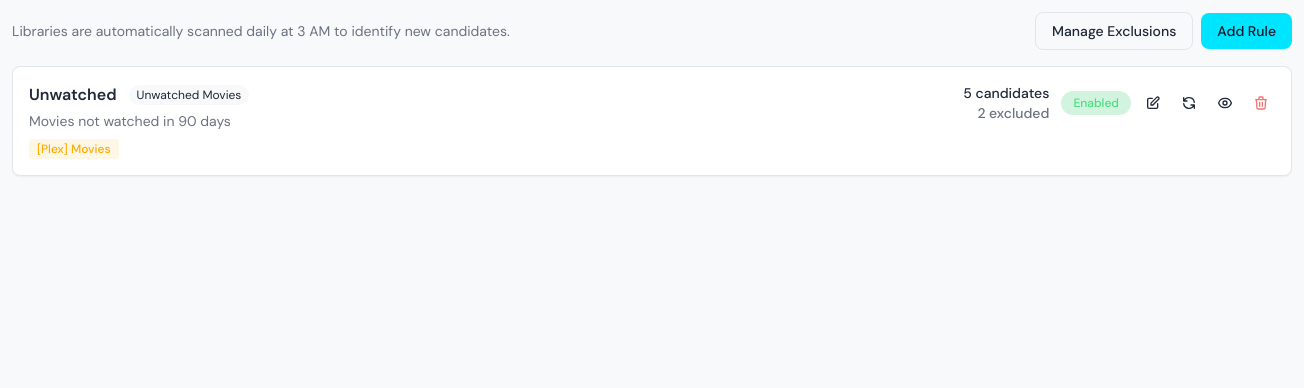
Test: MaintenanceRulesTab clickable titles › GlobalExclusionsView › renders exclusion title as a clickable button
This screenshot has width=1304, height=388.
Click the button "5 candidates".
click(1006, 93)  # box [963,83,1049,103]
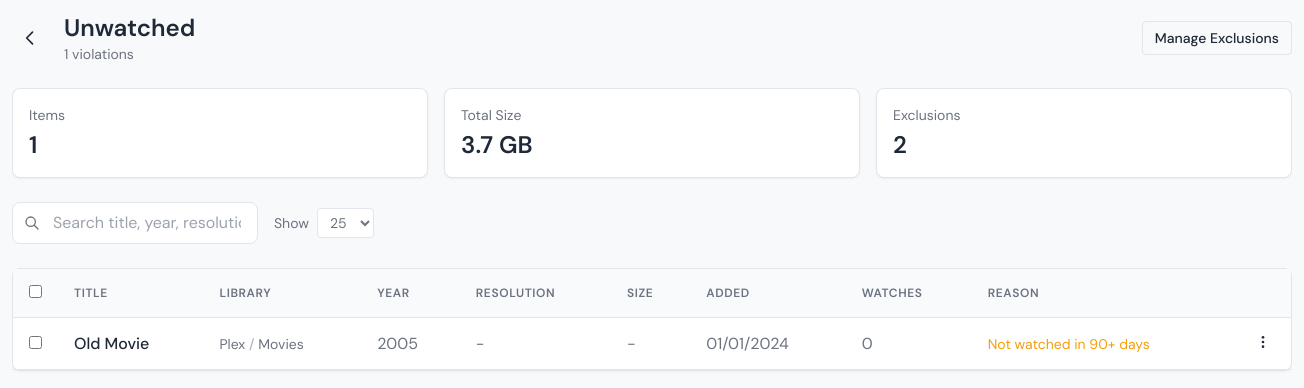
Now the button "Manage Exclusions" is shown
Click the button "Manage Exclusions".
click(1217, 38)  # box [1142,21,1292,55]
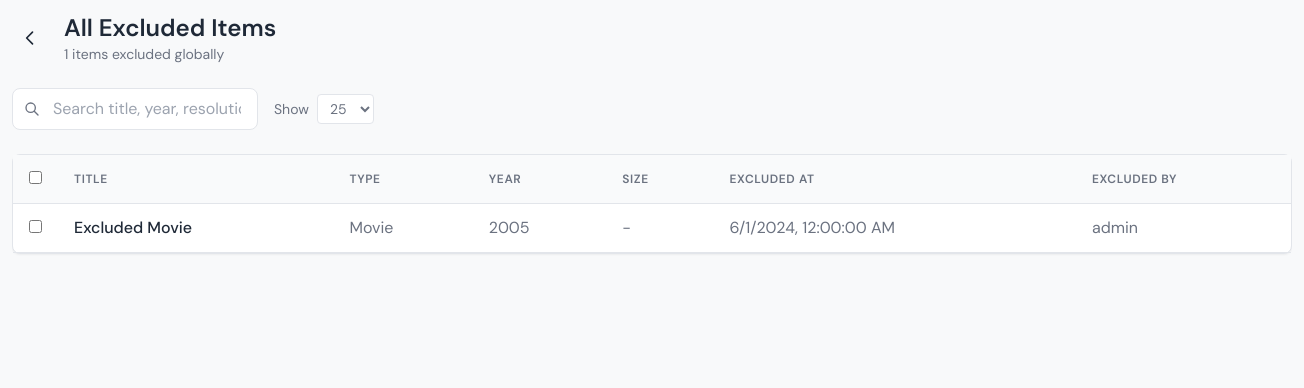
Now the button with aria-label "View details for Excluded Movie" is shown, box [74,216,192,240]
